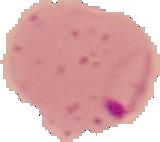parasitized: (18, 13, 149, 131), (101, 43, 154, 121)
